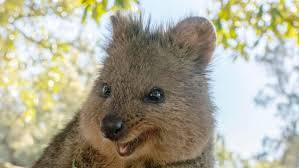quokka: (36, 10, 231, 168)
